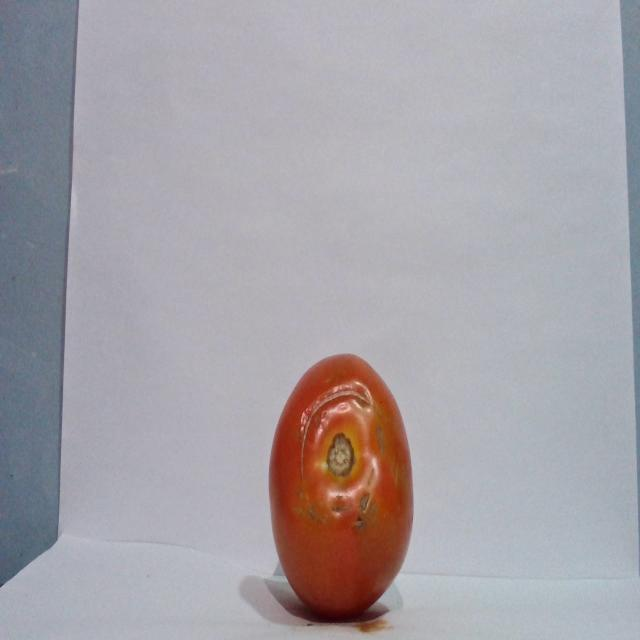Red: (266, 351, 414, 619)
